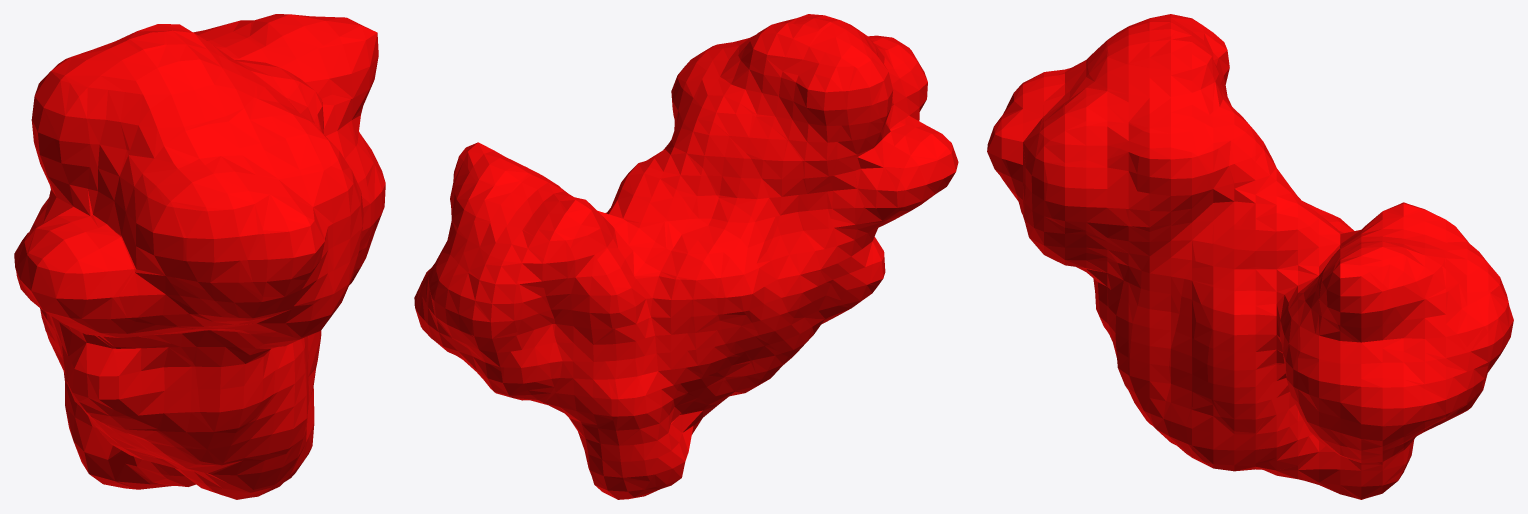
The model's file is lrhA_coarse.dae.
The picture shows the model from 3 angles, left to right: view 1: azimuth 30°, elevation 25°; view 2: azimuth 150°, elevation 25°; view 3: azimuth 270°, elevation 25°; orthographic projection. The views are drawn at different scales.
Visible parts, largest first — view 1: lrhA; view 2: lrhA; view 3: lrhA.
Part boxes in pixels (x1,y1,x2,y2): lrhA: (14, 14, 385, 499); lrhA: (414, 14, 958, 499); lrhA: (987, 14, 1513, 499).
Size of the model in its own units: 60.95 by 63.26 by 70.5.
